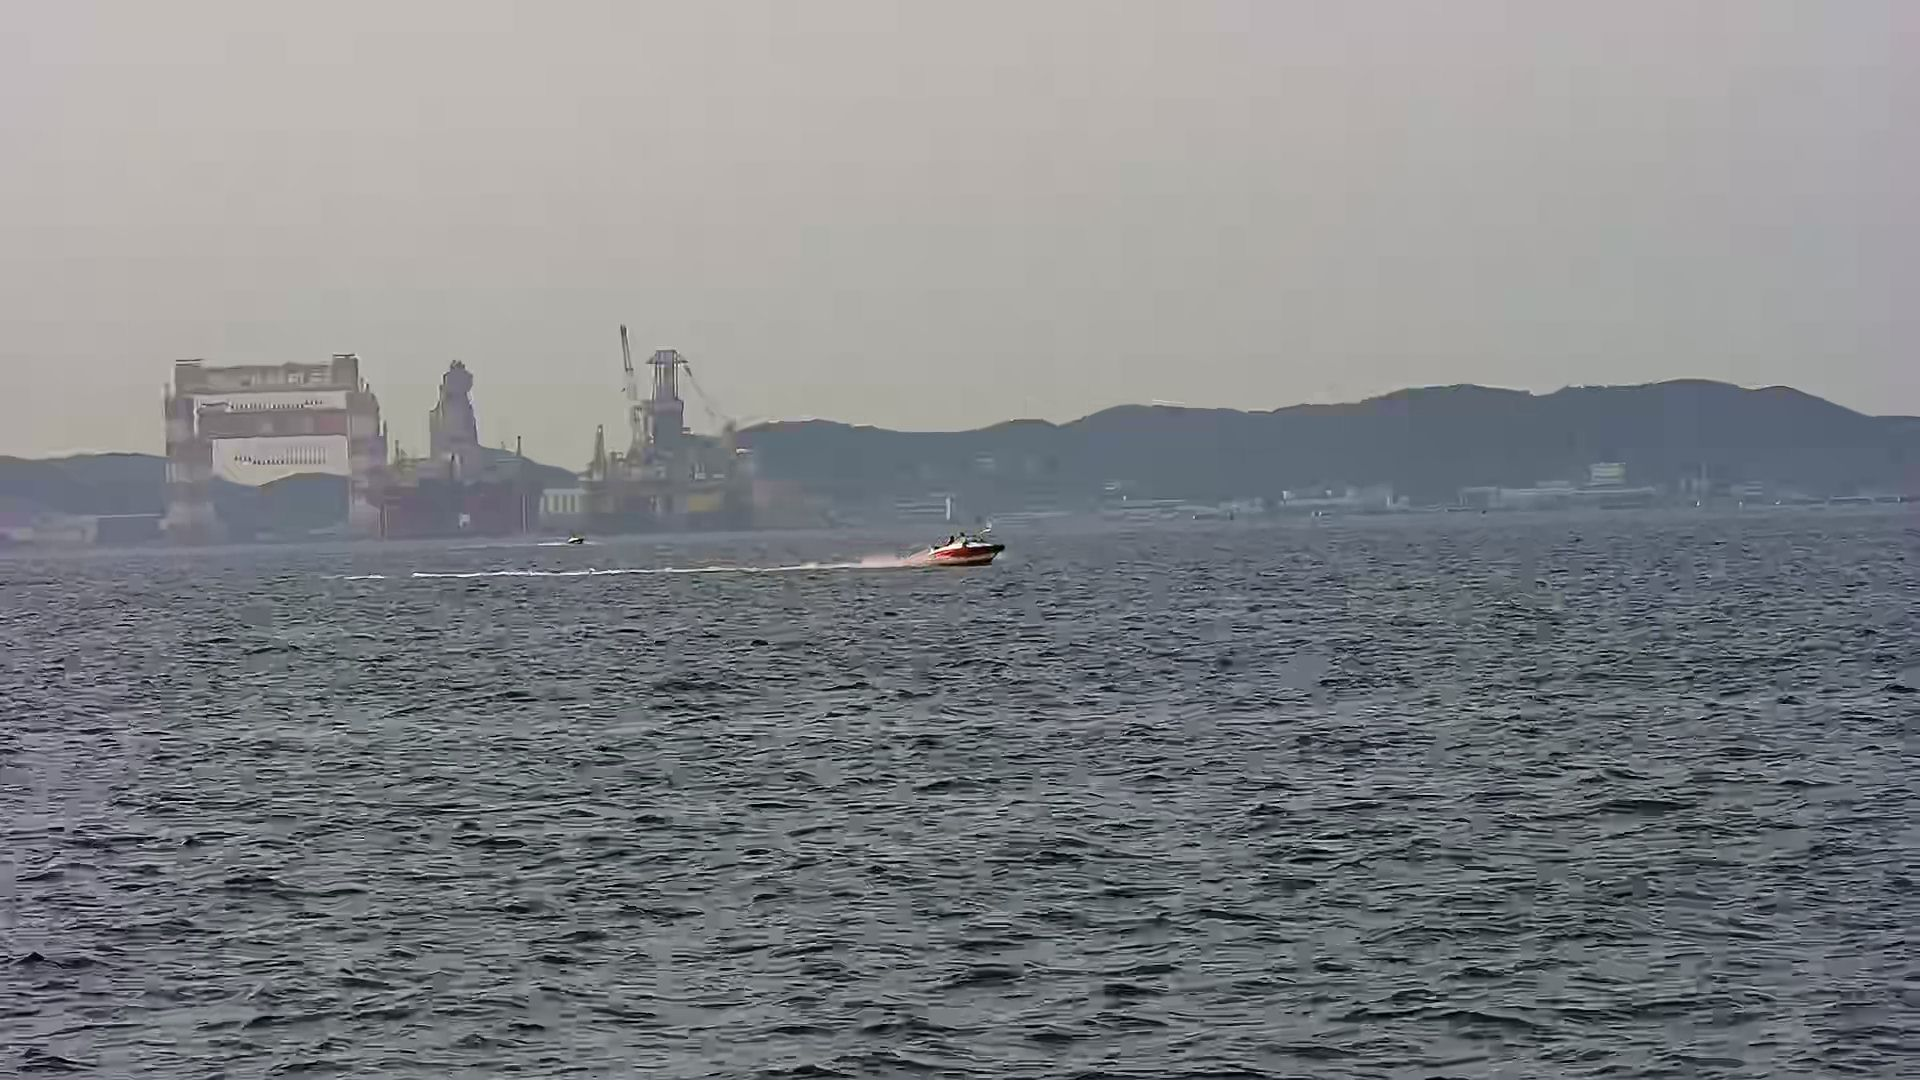boat: (915, 516, 1018, 574)
